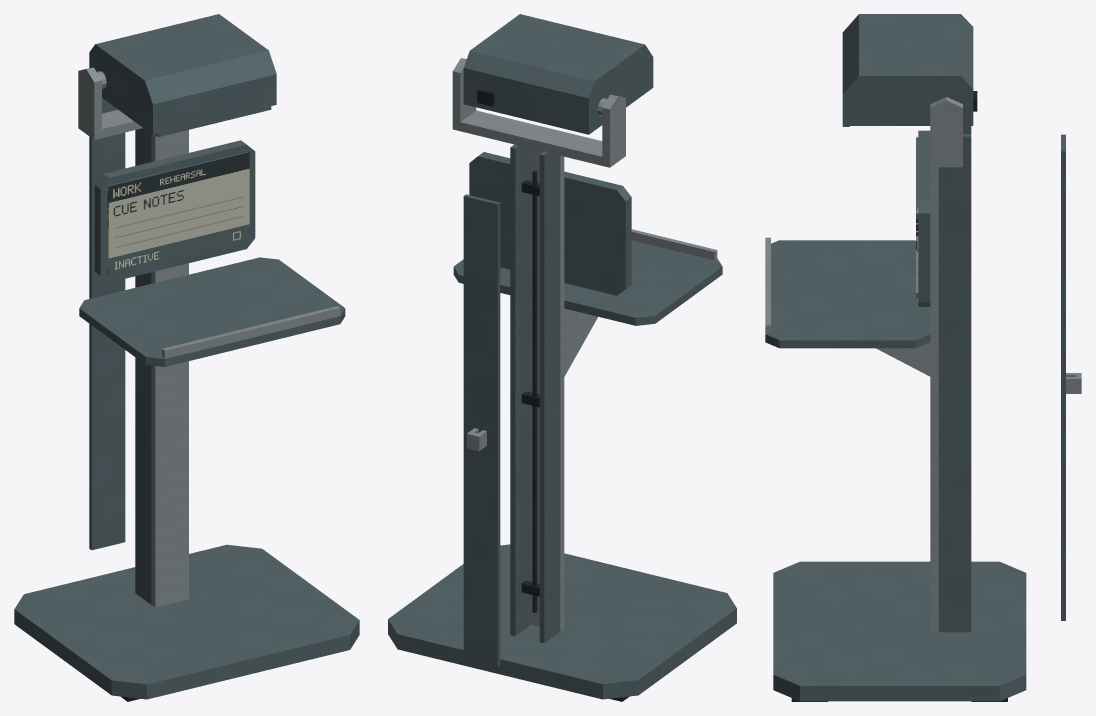
Rendered from AST-CUL-004_service_open.glb.
3 views of the same model, side by side, from view 1: azimuth 30°, elevation 25°; view 2: azimuth 150°, elevation 25°; view 3: azimuth 270°, elevation 25° (orthographic). The views are drawn at different scales.
Parts seen in each view (by area): view 1: AST-CUL-004__static__staff_bluegrey_paint, AST-CUL-004__LIGHT_AIM_X__staff_bluegrey_paint, AST-CUL-004__static__staff_zinc, AST-CUL-004__static__original_rehearsal_notes, AST-CUL-004__REAR_COVER_REMOVE__staff_bluegrey_paint; view 2: AST-CUL-004__static__staff_bluegrey_paint, AST-CUL-004__REAR_COVER_REMOVE__staff_bluegrey_paint, AST-CUL-004__LIGHT_AIM_X__staff_bluegrey_paint, AST-CUL-004__static__staff_zinc, AST-CUL-004__static__staff_rubber; view 3: AST-CUL-004__static__staff_bluegrey_paint, AST-CUL-004__LIGHT_AIM_X__staff_bluegrey_paint, AST-CUL-004__static__staff_zinc, AST-CUL-004__REAR_COVER_REMOVE__staff_bluegrey_paint.
Part boxes in pixels (x1=…): AST-CUL-004__static__staff_bluegrey_paint: x1=14, y1=128, x2=359, y2=699; AST-CUL-004__LIGHT_AIM_X__staff_bluegrey_paint: x1=89, y1=14, x2=276, y2=137; AST-CUL-004__static__staff_zinc: x1=78, y1=67, x2=340, y2=607; AST-CUL-004__static__original_rehearsal_notes: x1=107, y1=151, x2=249, y2=276; AST-CUL-004__REAR_COVER_REMOVE__staff_bluegrey_paint: x1=89, y1=98, x2=125, y2=550; AST-CUL-004__static__staff_bluegrey_paint: x1=388, y1=144, x2=736, y2=699; AST-CUL-004__REAR_COVER_REMOVE__staff_bluegrey_paint: x1=463, y1=194, x2=500, y2=666; AST-CUL-004__LIGHT_AIM_X__staff_bluegrey_paint: x1=463, y1=14, x2=653, y2=134; AST-CUL-004__static__staff_zinc: x1=452, y1=58, x2=717, y2=631; AST-CUL-004__static__staff_rubber: x1=521, y1=170, x2=629, y2=701; AST-CUL-004__static__staff_bluegrey_paint: x1=765, y1=126, x2=1026, y2=701; AST-CUL-004__LIGHT_AIM_X__staff_bluegrey_paint: x1=842, y1=14, x2=973, y2=126; AST-CUL-004__static__staff_zinc: x1=765, y1=97, x2=962, y2=632; AST-CUL-004__REAR_COVER_REMOVE__staff_bluegrey_paint: x1=1061, y1=134, x2=1065, y2=620.
Bounding box in the file's own units: 0.72 × 1.62 × 0.776.
Materials: 5 (5 with a texture image).
